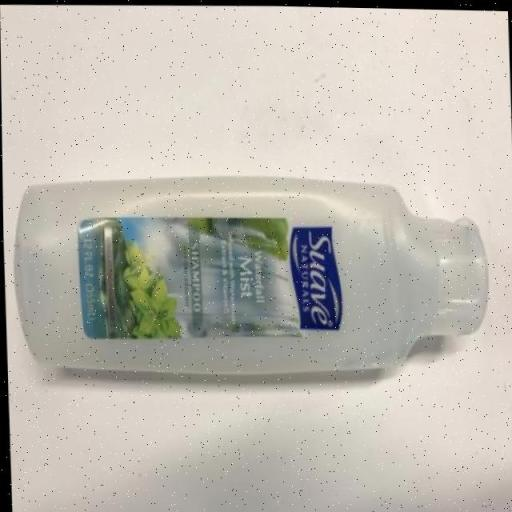plastic: (14, 176, 487, 372)
